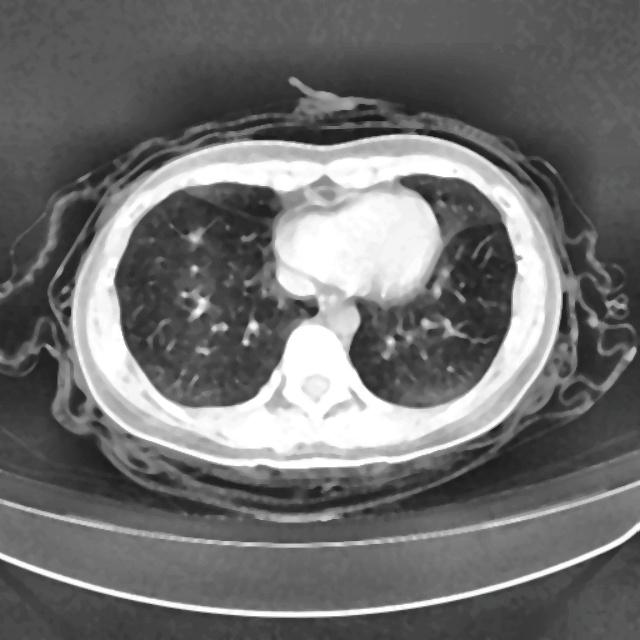covid: (2, 79, 636, 522)
